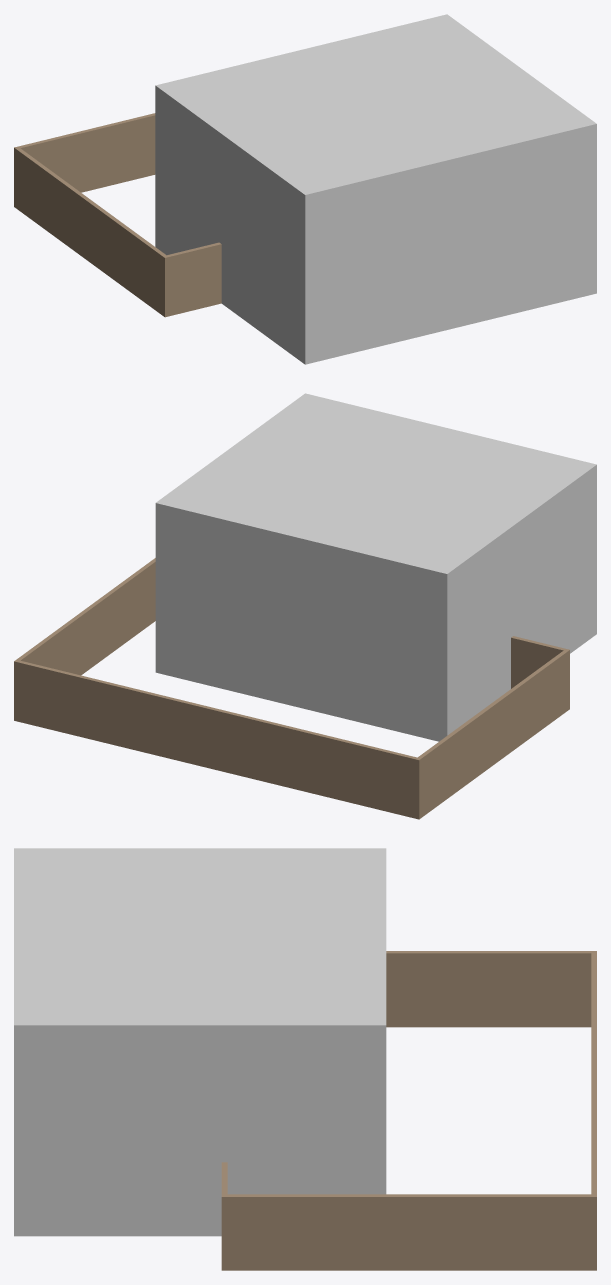
File: house.gltf
The picture shows the model from 3 angles, top to bottom: view 1: azimuth 30°, elevation 25°; view 2: azimuth 150°, elevation 25°; view 3: azimuth 270°, elevation 25°; orthographic projection. The views are drawn at different scales.
Parts seen in each view (by area): view 1: houseMesh, fenceMeshSide, fenceMeshFront2, fenceMeshFront; view 2: houseMesh, fenceMeshFront2, fenceMeshSide, fenceMeshSide2, fenceMeshFront; view 3: houseMesh, fenceMeshSide2, fenceMeshSide, fenceMeshFront2, fenceMeshFront.
Part boxes in pixels (bbox=[...]): houseMesh: bbox=[155, 14, 596, 364]; fenceMeshSide: bbox=[15, 147, 168, 315]; fenceMeshFront2: bbox=[14, 113, 155, 207]; fenceMeshFront: bbox=[162, 242, 221, 317]; houseMesh: bbox=[155, 393, 596, 741]; fenceMeshFront2: bbox=[14, 660, 421, 819]; fenceMeshSide: bbox=[416, 650, 569, 817]; fenceMeshSide2: bbox=[15, 558, 155, 675]; fenceMeshFront: bbox=[511, 636, 569, 710]; houseMesh: bbox=[14, 848, 386, 1236]; fenceMeshSide2: bbox=[221, 1194, 593, 1270]; fenceMeshSide: bbox=[386, 951, 593, 1027]; fenceMeshFront2: bbox=[591, 951, 596, 1270]; fenceMeshFront: bbox=[221, 1162, 227, 1270].
Size of the model in its own units: 25 by 10 by 25.05.
